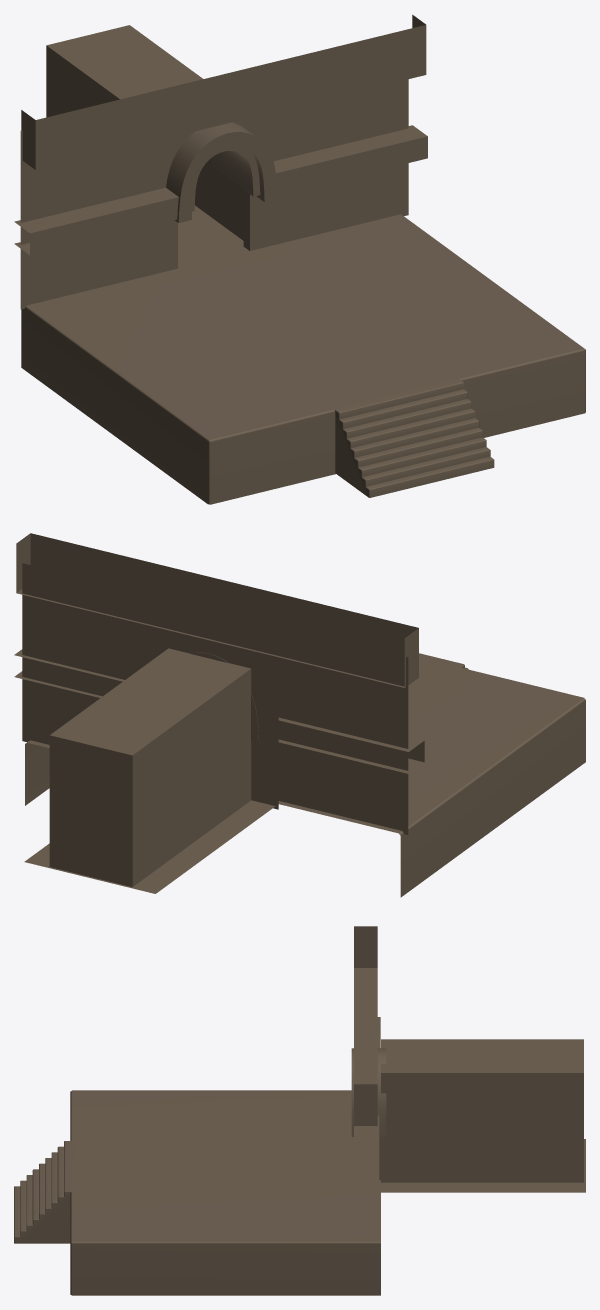
File: WallsAndFloor.fbx
The picture shows the model from 3 angles, top to bottom: view 1: azimuth 30°, elevation 25°; view 2: azimuth 150°, elevation 25°; view 3: azimuth 270°, elevation 25°; orthographic projection. The views are drawn at different scales.
Parts seen in each view (by area): view 1: Floor, pCube17, Upper_Divider, Stairs, Hallway, L_Divider, R_Divider, OuterArch, InnArch; view 2: pCube17, Hallway, Floor, Upper_Divider, L_Divider, R_Divider; view 3: Floor, Hallway, Stairs, Upper_Divider, R_Divider, OuterArch.
Part boxes in pixels (box(x1,y1,x2,y2)): Floor: box(21, 205, 585, 504); pCube17: box(20, 79, 408, 309); Upper_Divider: box(21, 14, 426, 169); Stairs: box(333, 377, 494, 497); Hallway: box(46, 25, 243, 240); L_Divider: box(14, 187, 178, 255); R_Divider: box(273, 125, 427, 194); OuterArch: box(166, 122, 277, 222); InnArch: box(192, 146, 260, 211); pCube17: box(22, 563, 408, 834); Hallway: box(49, 648, 251, 886); Floor: box(24, 659, 585, 897); Upper_Divider: box(16, 533, 418, 687); L_Divider: box(278, 717, 424, 773); R_Divider: box(14, 649, 124, 697); Floor: box(70, 1090, 585, 1295); Hallway: box(381, 1039, 583, 1182); Stairs: box(14, 1141, 75, 1243); Upper_Divider: box(354, 926, 377, 1125); R_Divider: box(354, 1115, 379, 1195); OuterArch: box(351, 1048, 386, 1136).
Bounding box in the file's own units: 36.51 × 22.81 × 54.88.
